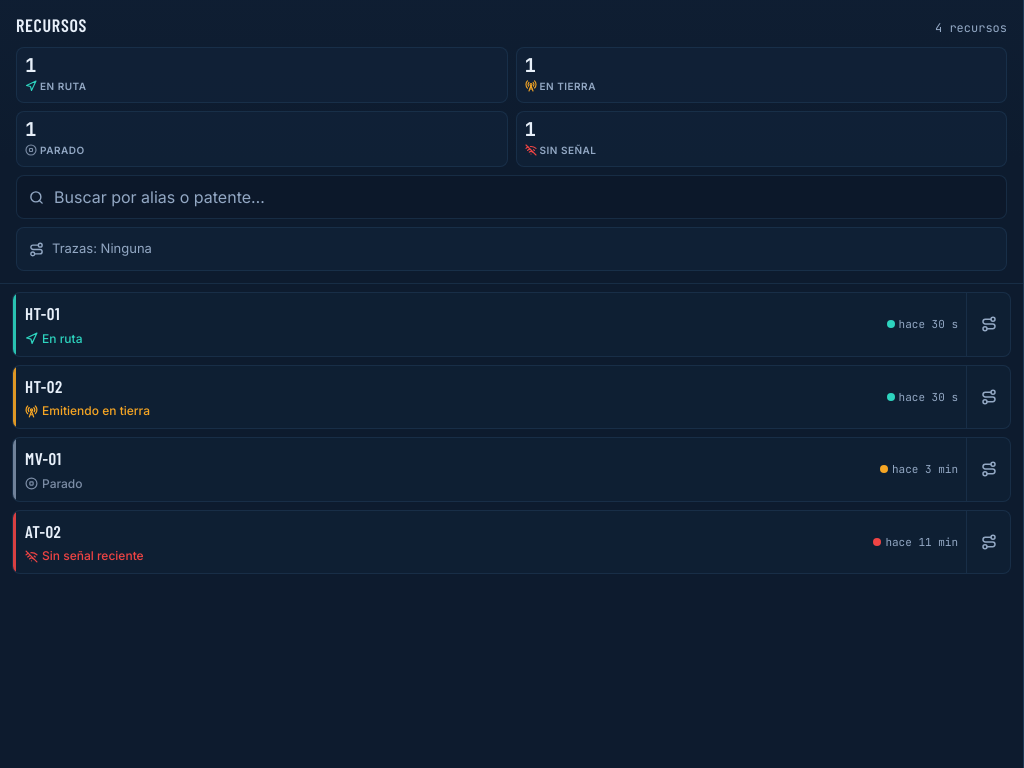
FleetPanel — KPIs por estado › el tile filtra la lista y un segundo clic quita el filtro
Click the button with aria-label "Filtrar por estado: Sin señal (1)" at [568, 150], box [516,111,1007,167]
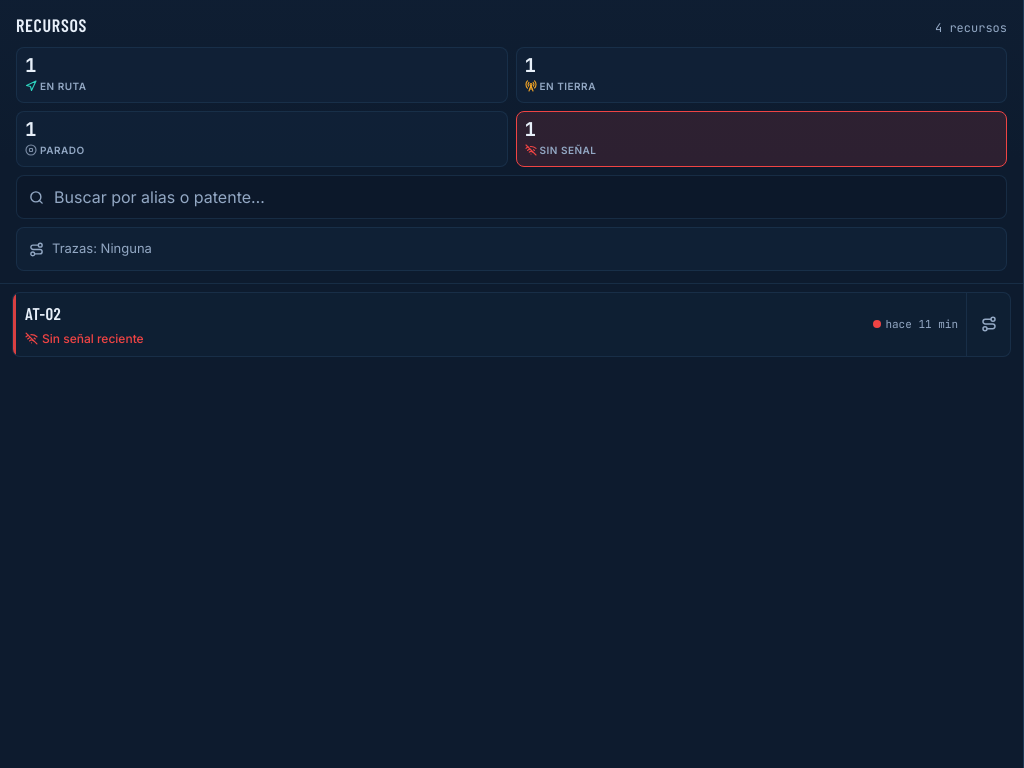
Expected: the text "AT-02" is shown, [25,301,61,326]
Expected: the button "HT-01" is gone
Click the button with aria-label "Quitar filtro de estado: Sin señal" at [568, 150], box [516,111,1007,167]
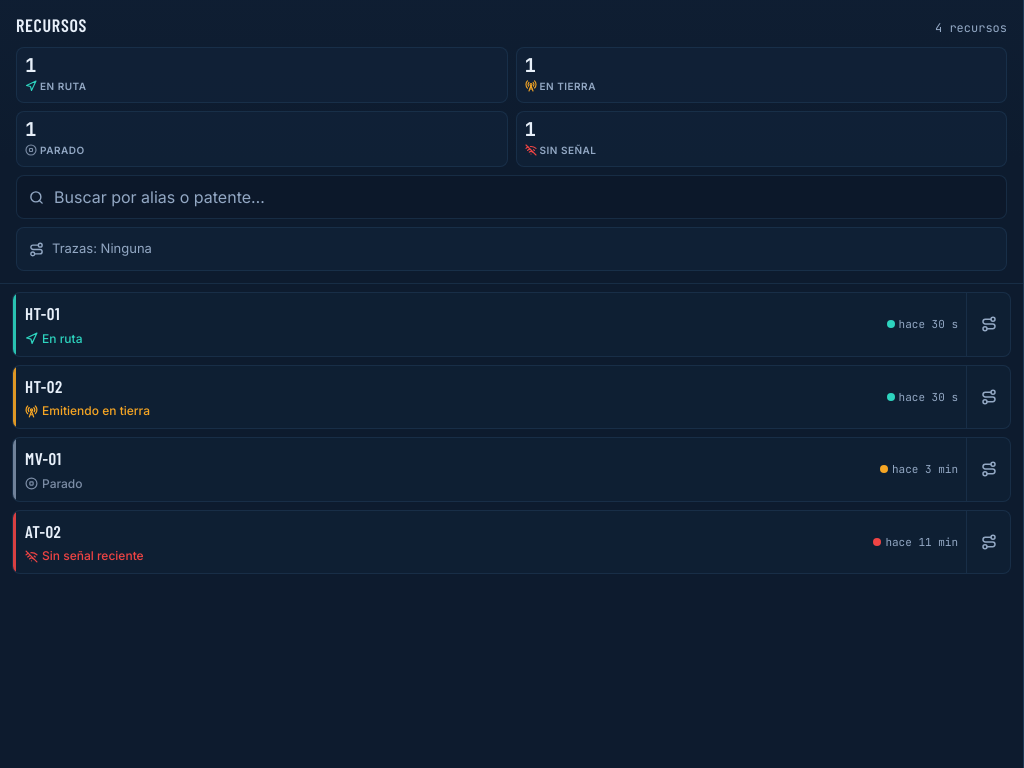
Expected: the text "HT-01" is shown, [25,301,60,326]
